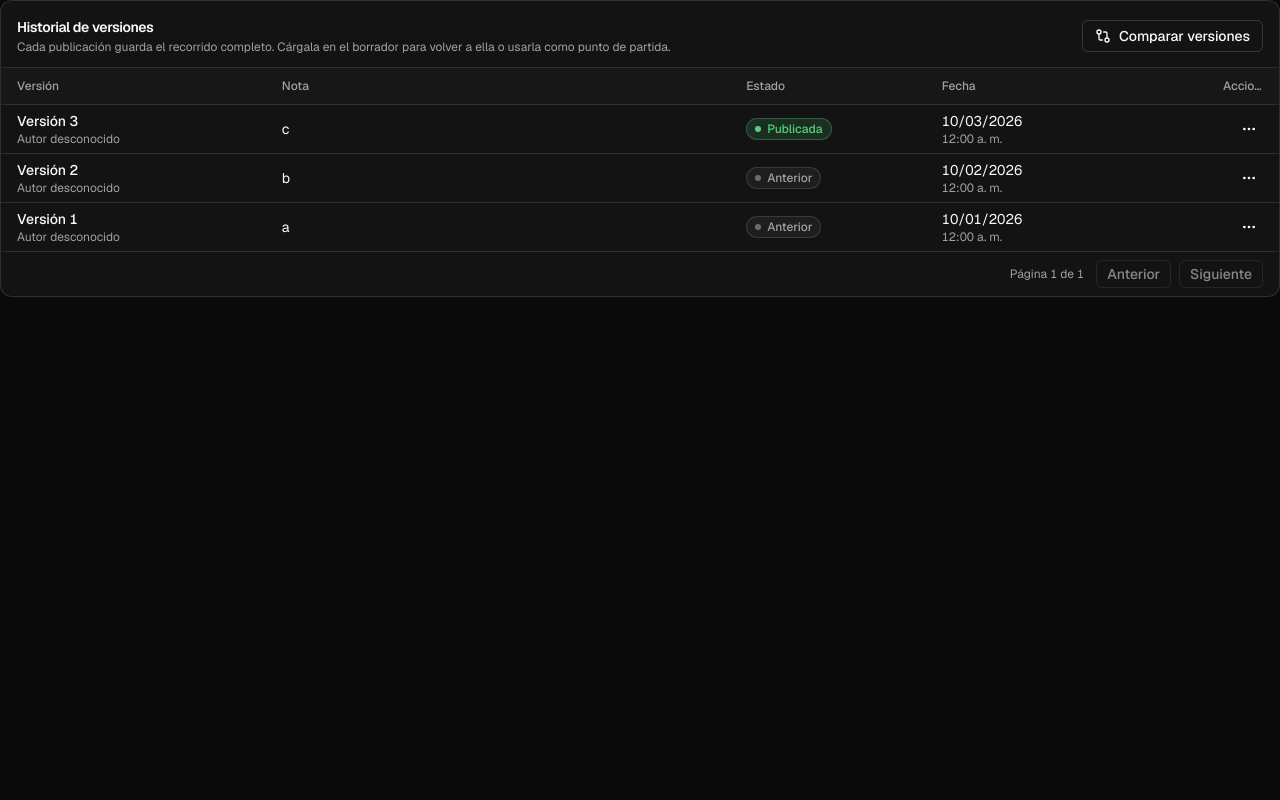
Scenario: VersionsTab › muestra qué cambió frente a la versión anterior desde el menú de la fila
The image size is (1280, 800).
Step 1. Click the button named "Acciones de la versión 3" → (1249, 128), box [1235, 114, 1263, 142]
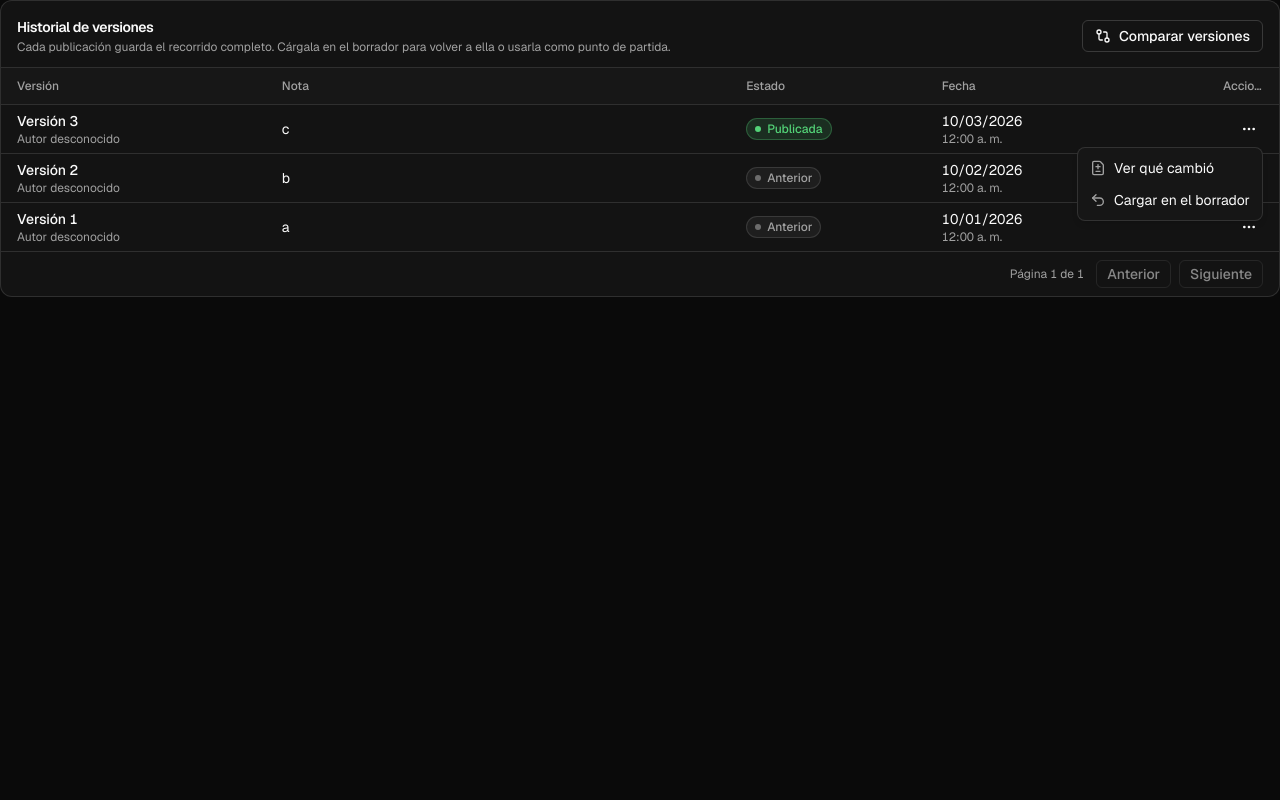
Step 2. Click the menu item "Ver qué cambió" → (1152, 168), box [1090, 159, 1214, 177]
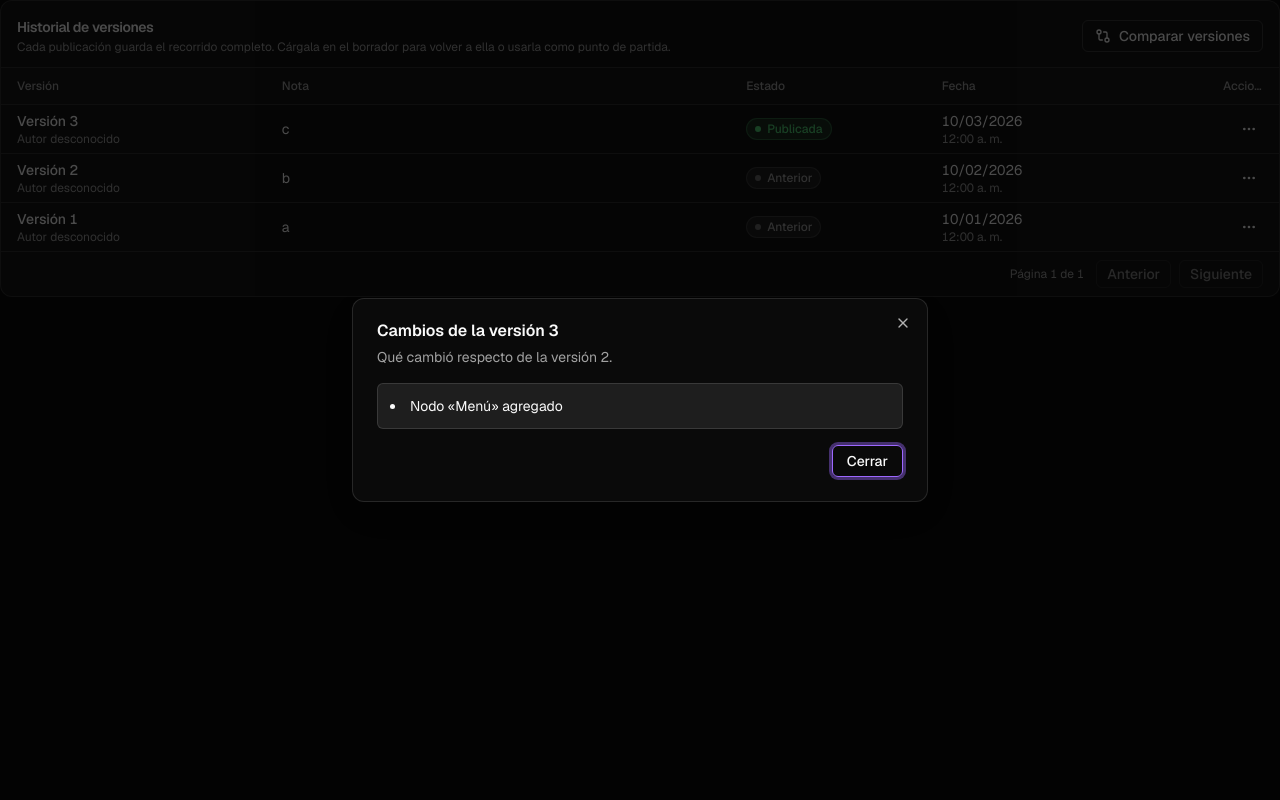
Check: the list named "Cambios de la versión" reads "Nodo «Menú» agregado", box [410, 397, 563, 415]
